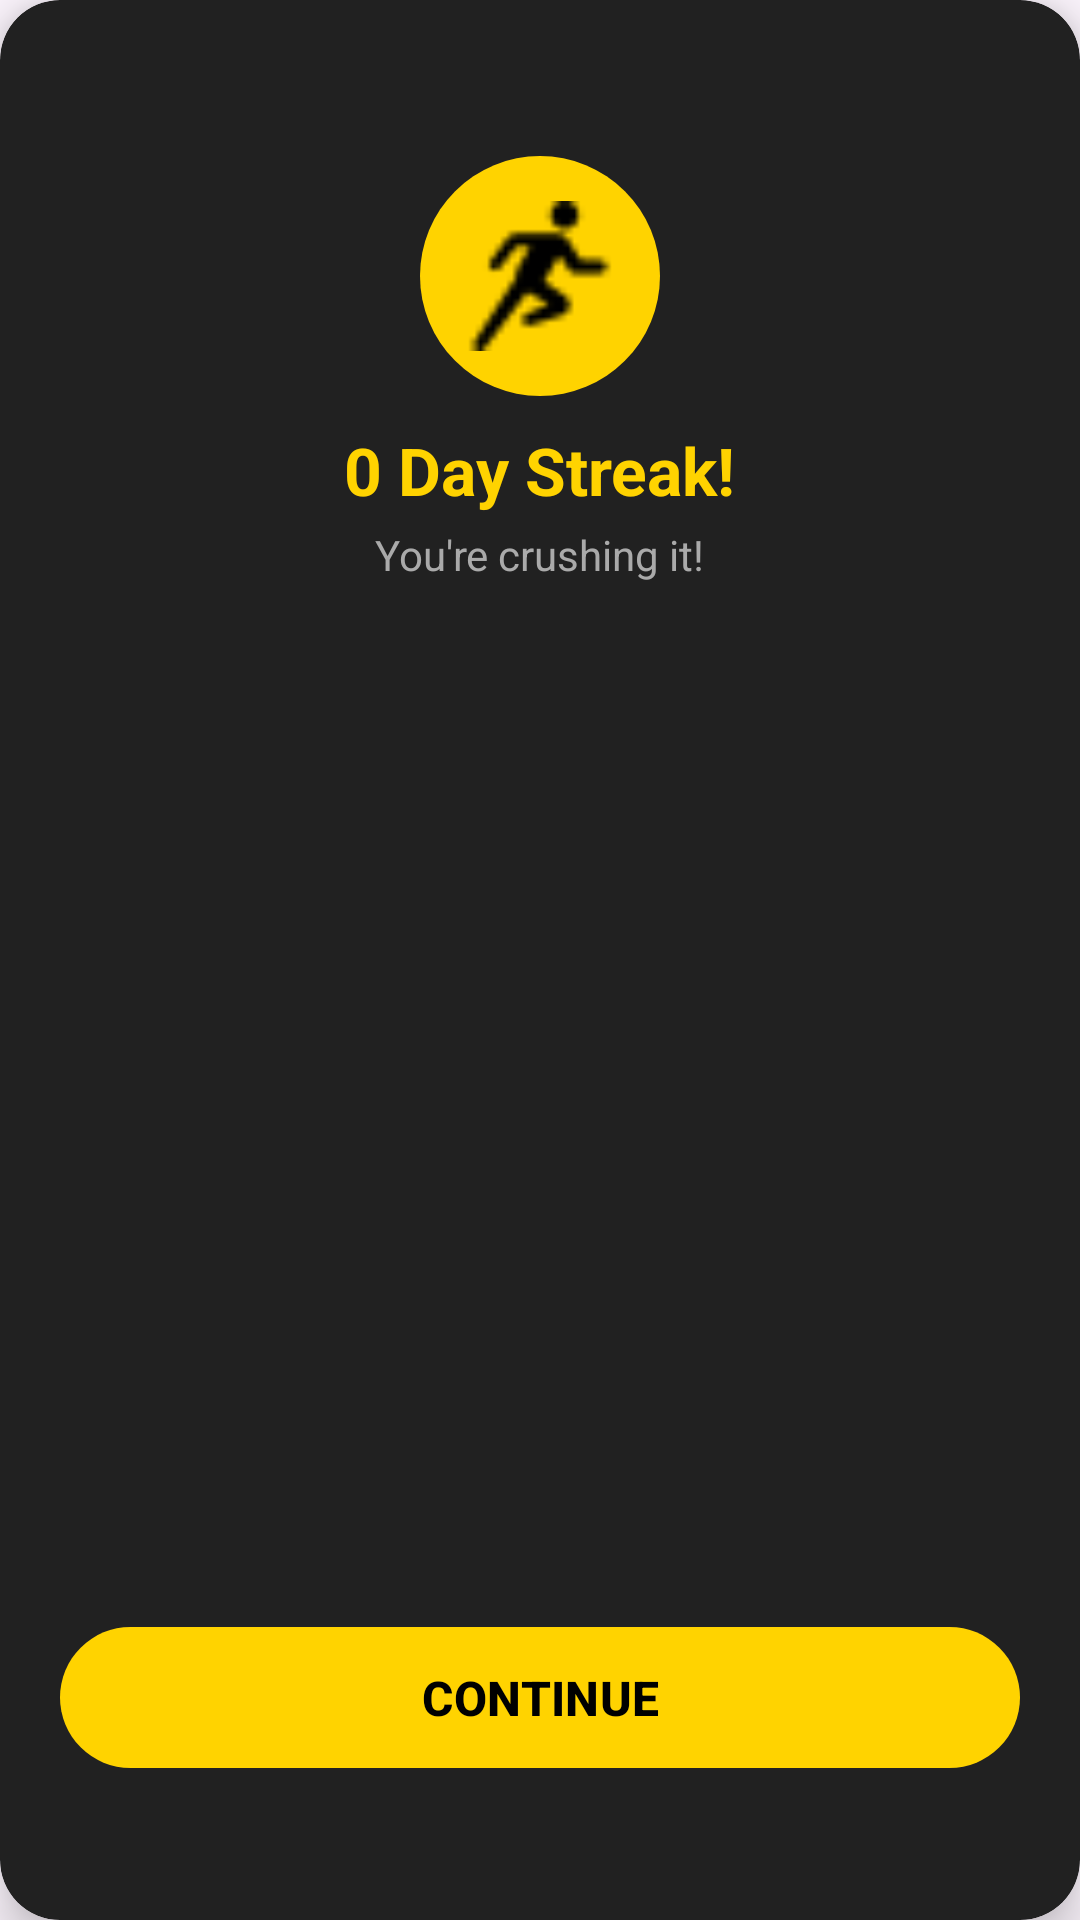

Point at icon controls on the screen. Image size 1080x1920, points as (x=x, y=y).
running: (x=540, y=276)
